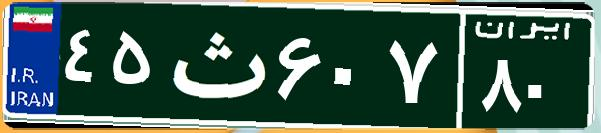0: (330, 28, 385, 110), (525, 38, 570, 115)
4: (57, 26, 110, 107)
5: (110, 28, 158, 105)
6: (273, 28, 330, 110)
7: (385, 28, 445, 110)
8: (475, 38, 525, 113)
ث: (158, 15, 273, 115)
